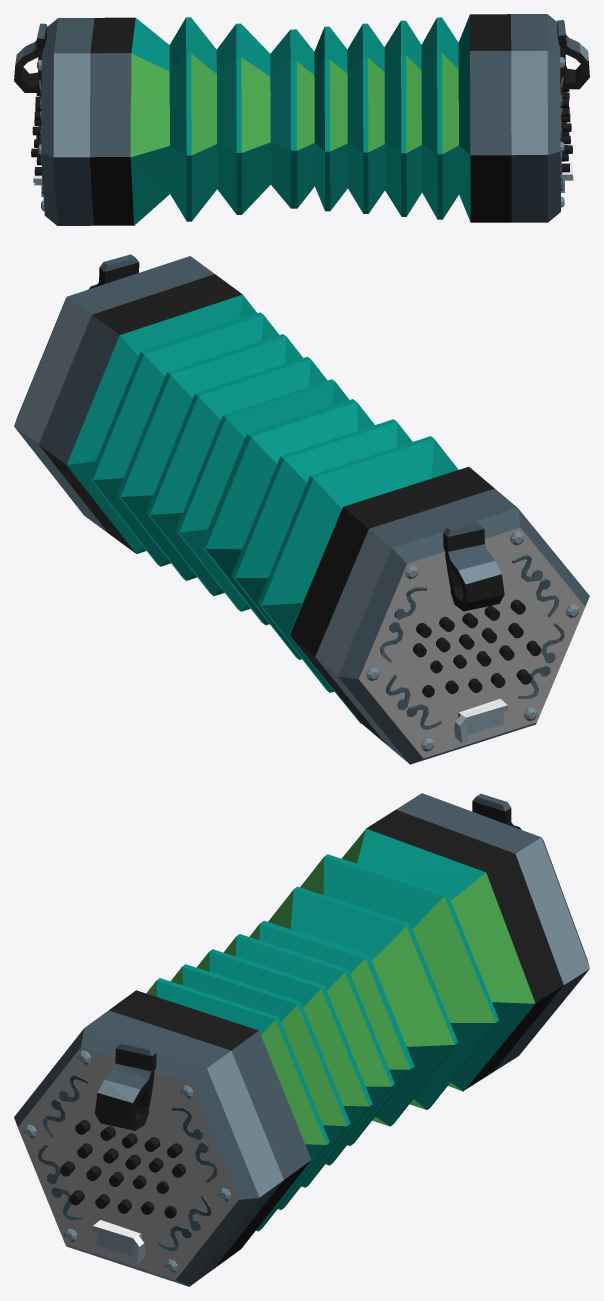
File: instruments-accordion-e941f617ca.glb
3 views of the same model, one above another, from view 1: azimuth 30°, elevation 25°; view 2: azimuth 150°, elevation 25°; view 3: azimuth 270°, elevation 25° (orthographic). The views are drawn at different scales.
Parts seen in each view (by area): view 1: group1109575276; view 2: group1109575276; view 3: group1109575276.
Part boxes in pixels (box(x1,y1,x2,y2)): group1109575276: box(14, 14, 589, 225); group1109575276: box(14, 254, 589, 764); group1109575276: box(14, 793, 589, 1286).
Bounding box in the file's own units: 1.03 × 0.3838 × 0.8168.
